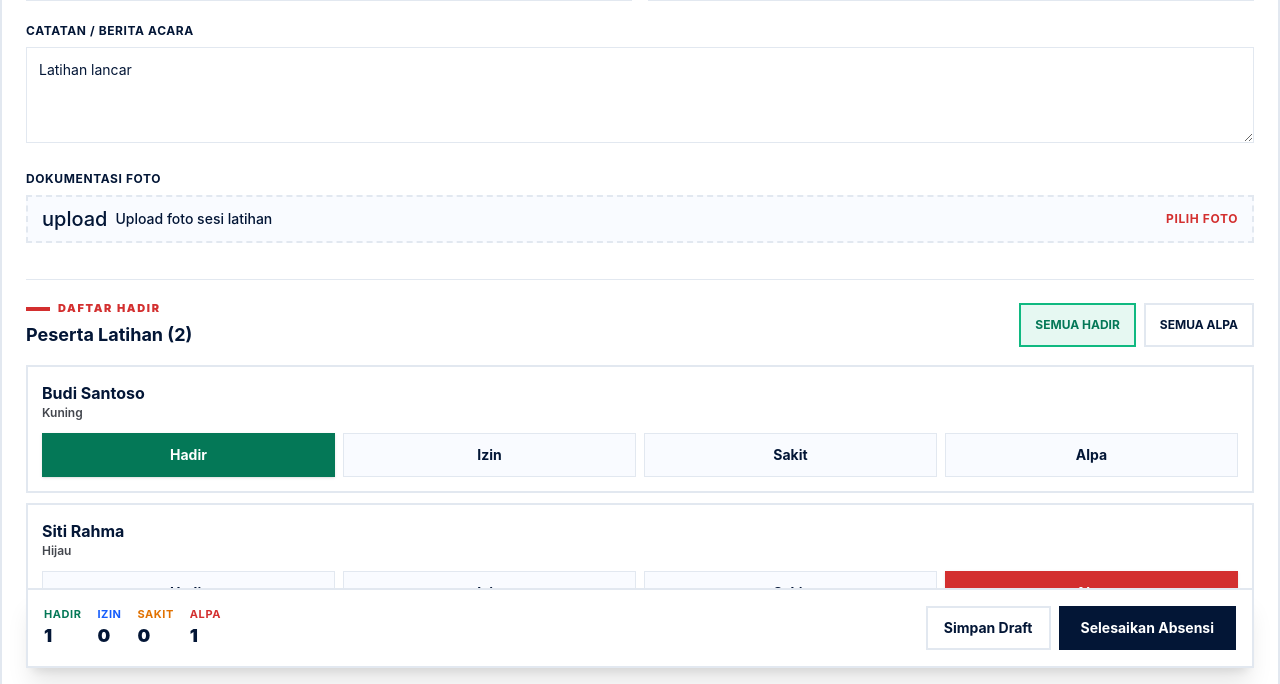
Test: AcademyAttendanceManager › tombol Semua Hadir mengubah seluruh peserta menjadi hadir
(page scrolled)
Expected: the text "Budi Santoso" is shown, [42,381,145,405]
Click the button "Semua Hadir" at x=1078, y=324, box [1019,302,1136,346]
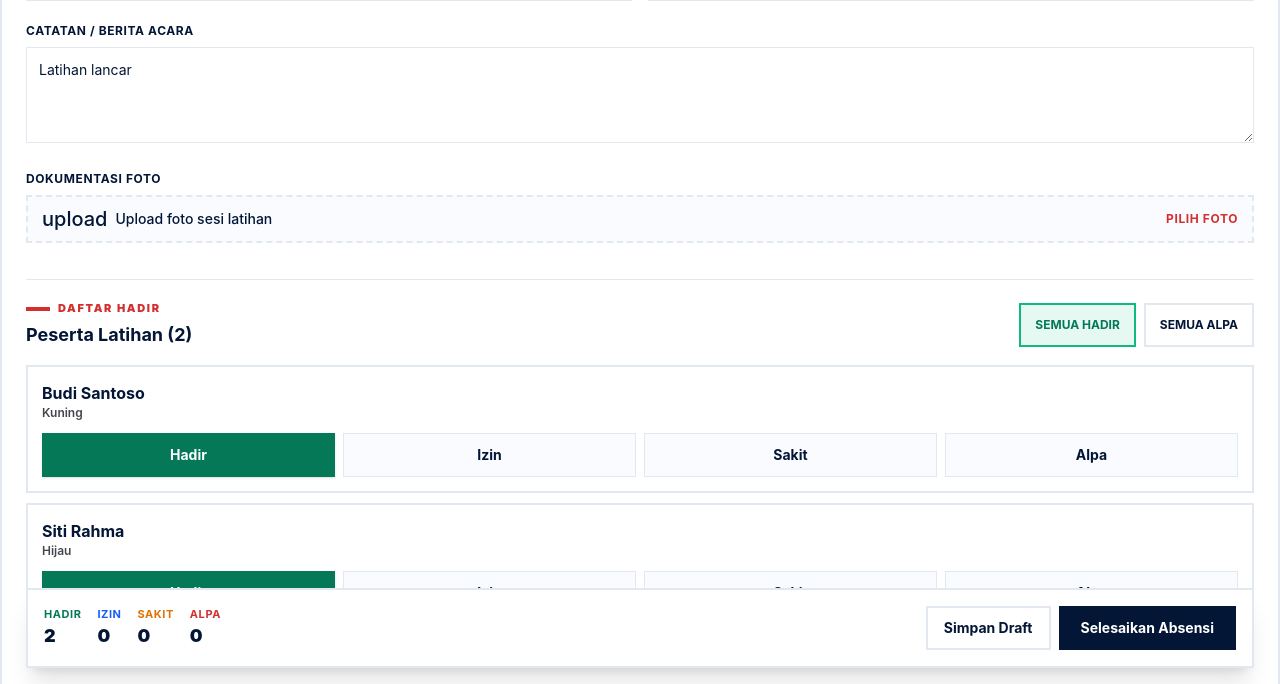
Expected: the button "Hadir" is shown, [42,433,335,477]
Result: the text "2" is shown at [44,625,56,646]
